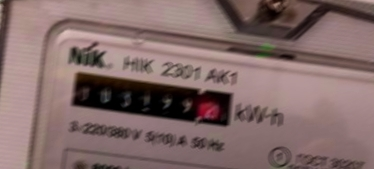0: (76, 80, 90, 99), (99, 81, 111, 101)
1: (141, 84, 150, 103)
3: (120, 86, 129, 105)
6: (202, 103, 213, 119)
9: (181, 93, 191, 112), (161, 88, 170, 107)
screen: (64, 64, 239, 131)
